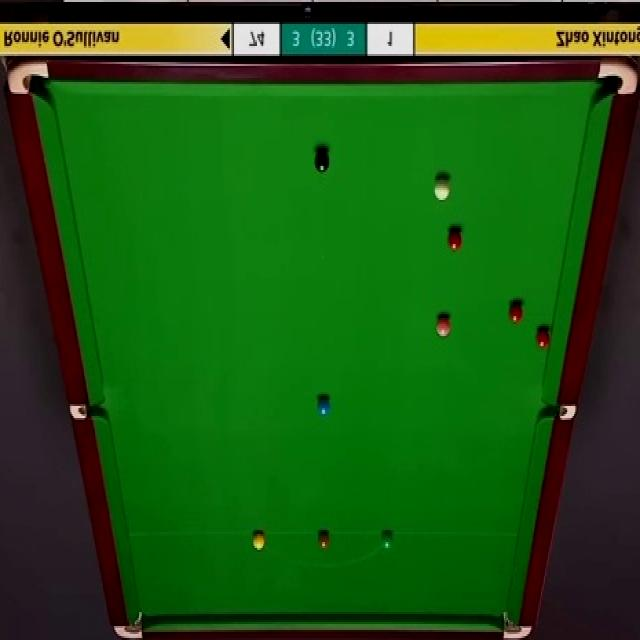pocket: (7, 58, 53, 100), (594, 58, 637, 97), (501, 608, 530, 640), (113, 612, 143, 640), (66, 404, 104, 422), (540, 405, 574, 420)
